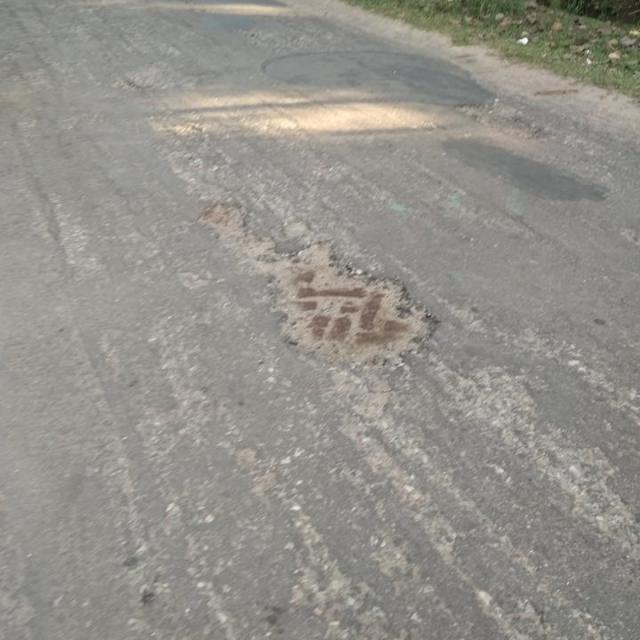pothole: (261, 238, 450, 374), (454, 98, 550, 140), (200, 198, 249, 243)
